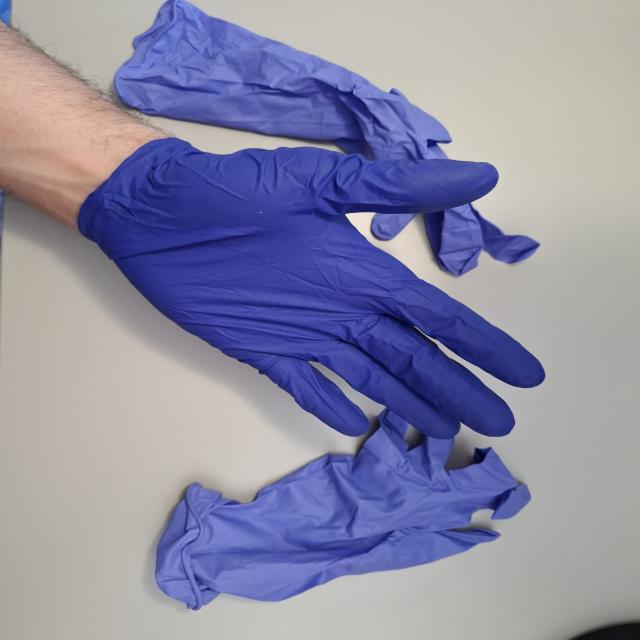glove_on: (82, 138, 552, 444)
